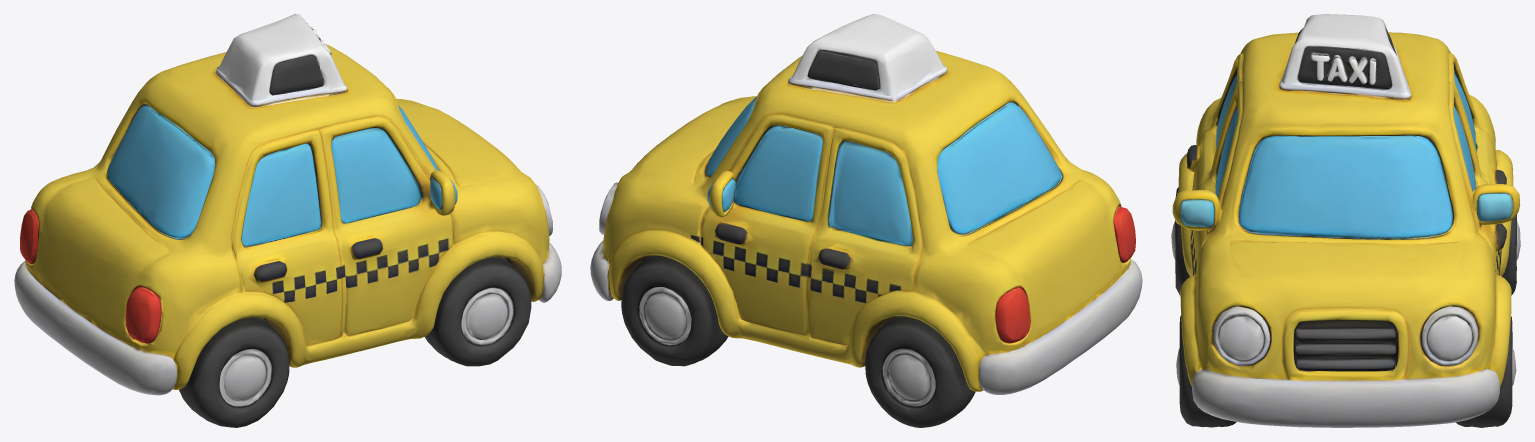
The model's file is taxi.glb.
3 views of the same model, side by side, from view 1: azimuth 30°, elevation 25°; view 2: azimuth 150°, elevation 25°; view 3: azimuth 270°, elevation 25° (orthographic). The views are drawn at different scales.
Visible parts, largest first — view 1: tripo_node_521d7257-60b6-4e2a-b39e-2da5f7aa945a; view 2: tripo_node_521d7257-60b6-4e2a-b39e-2da5f7aa945a; view 3: tripo_node_521d7257-60b6-4e2a-b39e-2da5f7aa945a.
Part boxes in pixels (x1,y1,x2,y2): tripo_node_521d7257-60b6-4e2a-b39e-2da5f7aa945a: (14, 14, 561, 427); tripo_node_521d7257-60b6-4e2a-b39e-2da5f7aa945a: (590, 14, 1142, 427); tripo_node_521d7257-60b6-4e2a-b39e-2da5f7aa945a: (1171, 14, 1520, 427).
Size of the model in its own units: 0.9798 by 0.6446 by 0.6202.
1 material, 1 textured.
